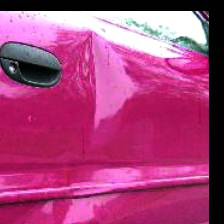door_dent: (54, 20, 126, 223)
